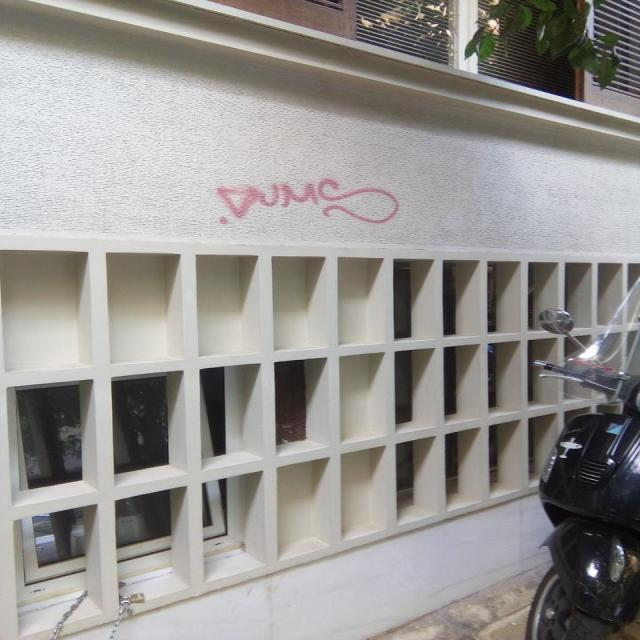nonspitting: (217, 177, 400, 224)
